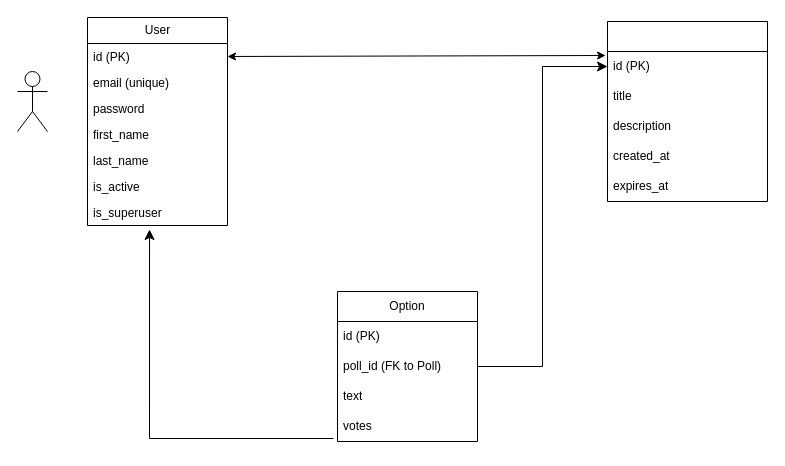
The diagram is 785 pixels wide and 466 high, and some of its shapes have lost their labels. Here are the shapes that lost their labels. From the top down, the box of each, then its label:
(16, 70, 48, 132): Actor
(606, 20, 768, 202): Poll
